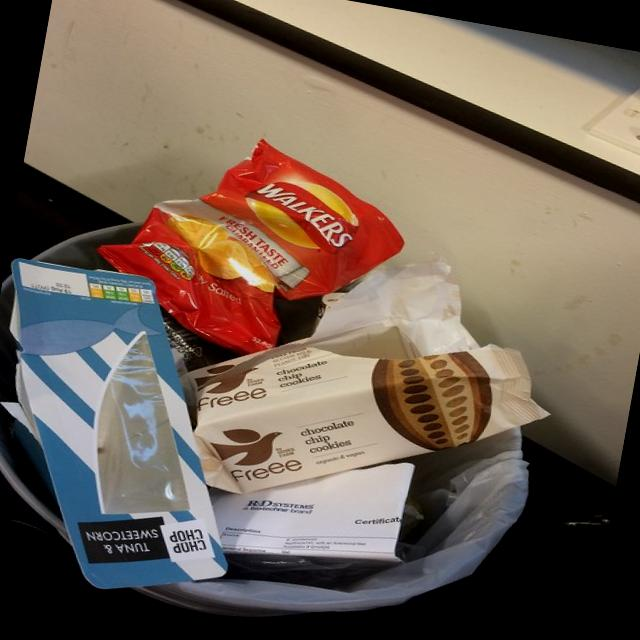Trash: (0, 255, 275, 609), (82, 110, 420, 382), (183, 314, 560, 544), (213, 454, 416, 584)
